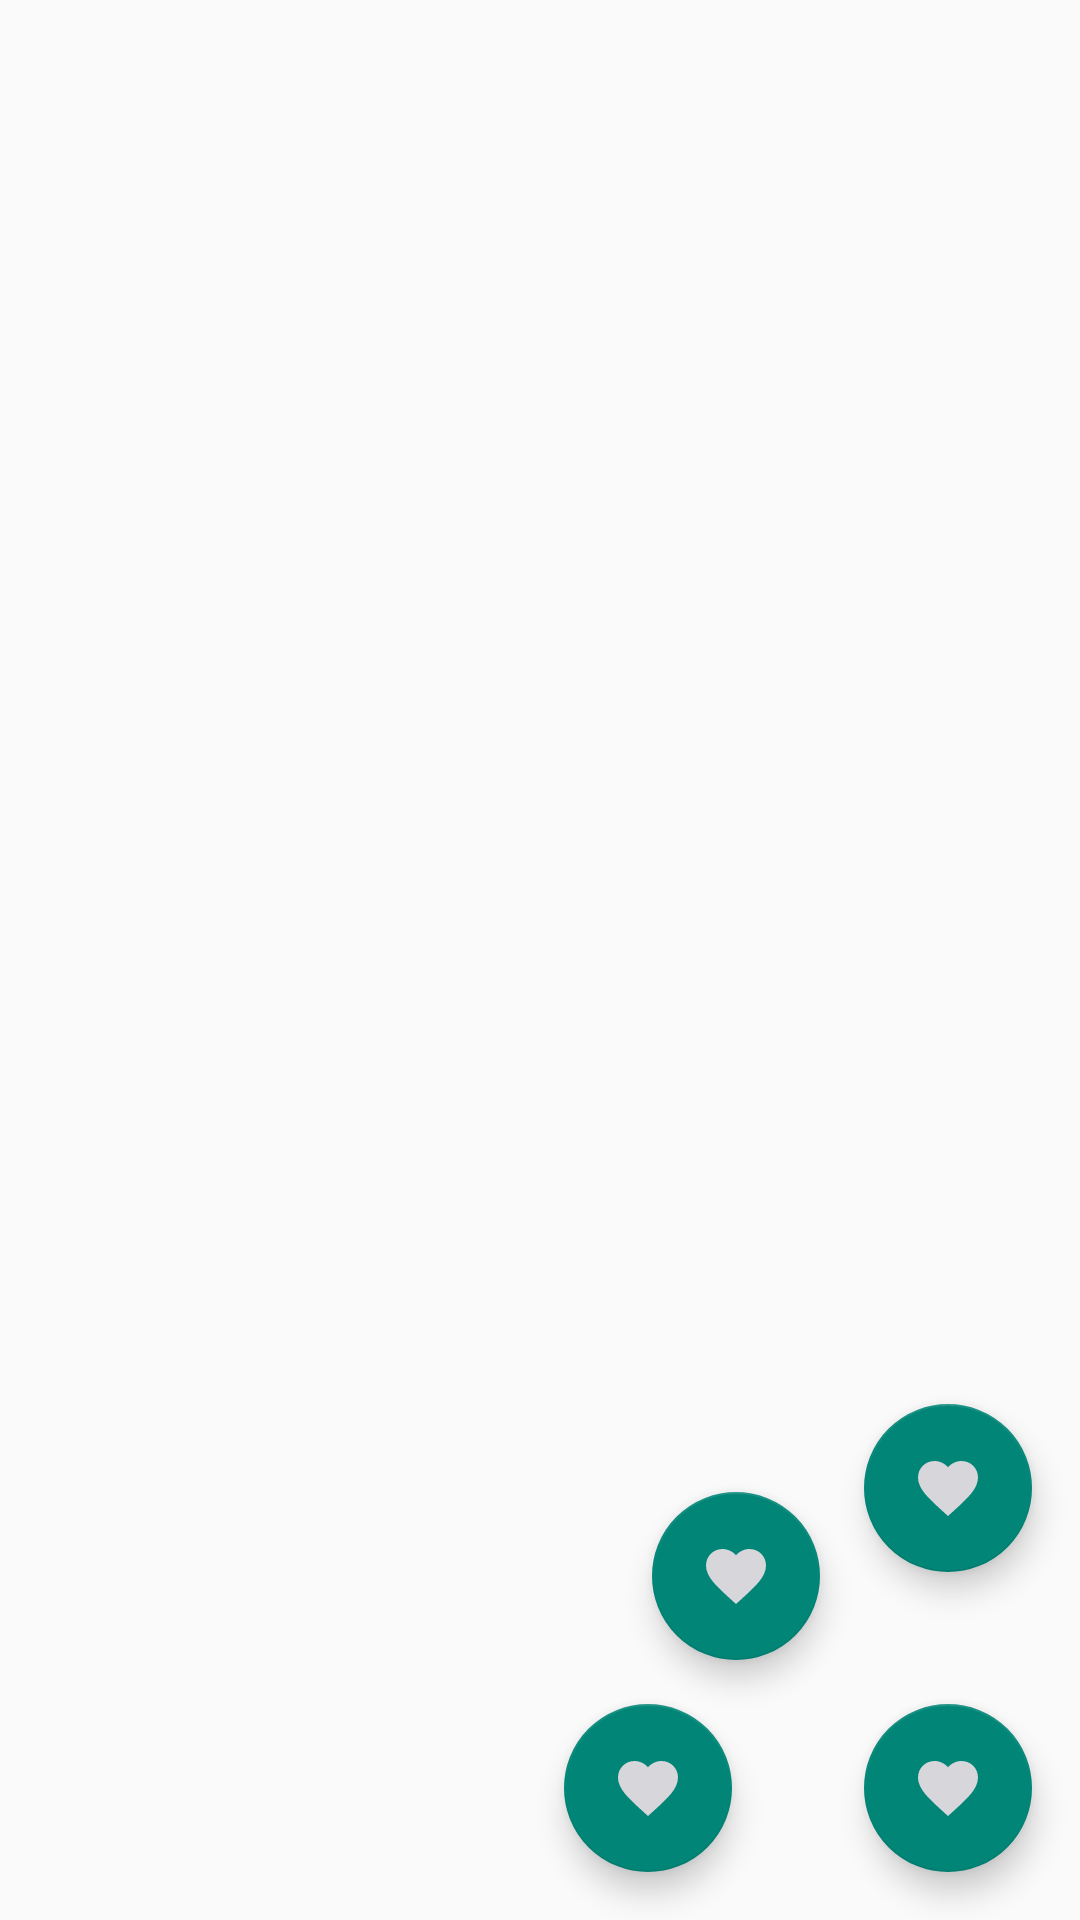

Icons on this 1080*1920 Android screen, each with its box as (x1, y1, x2, y2):
favorite: (864, 1404, 1032, 1572), (652, 1492, 820, 1660), (564, 1704, 732, 1872), (864, 1704, 1032, 1872)
